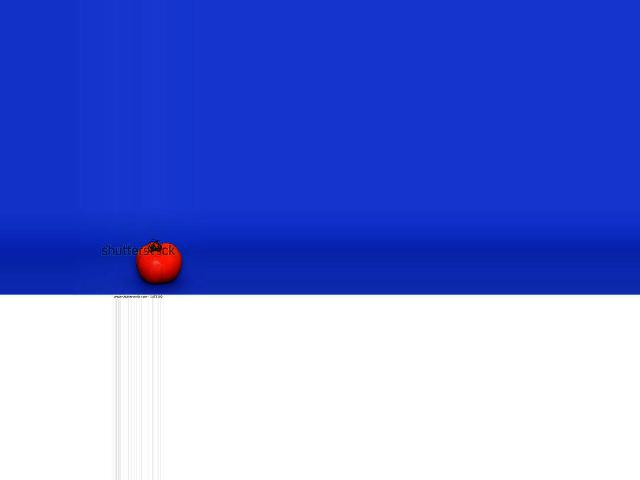tomato: (136, 242, 183, 283)
